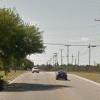Tree: (3, 2, 43, 78)
